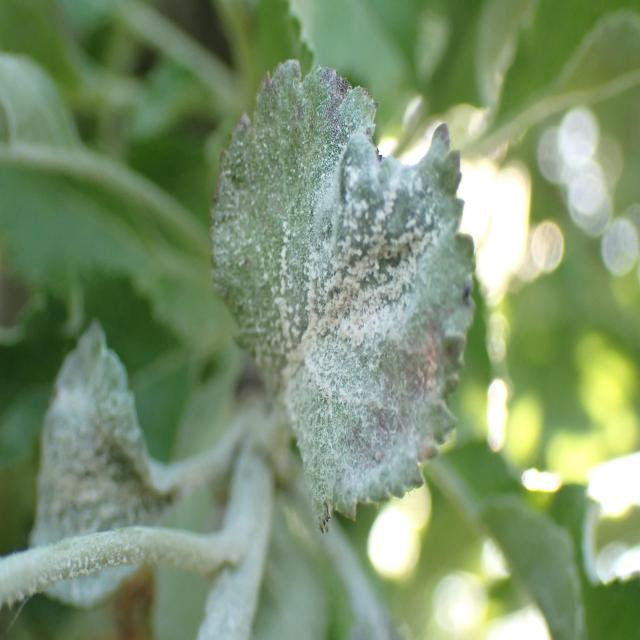Powdery_mildew: (218, 48, 472, 513), (24, 300, 257, 601)
